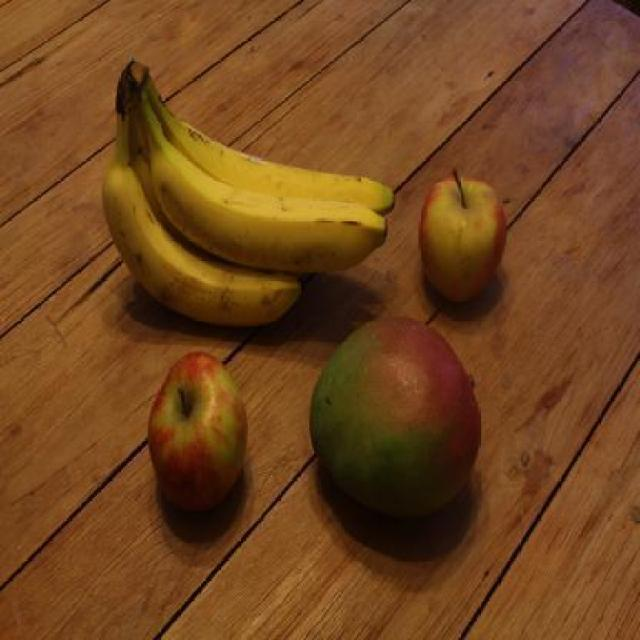apple: (146, 352, 248, 517), (418, 172, 509, 317)
banana: (102, 110, 299, 324), (145, 108, 389, 277)
